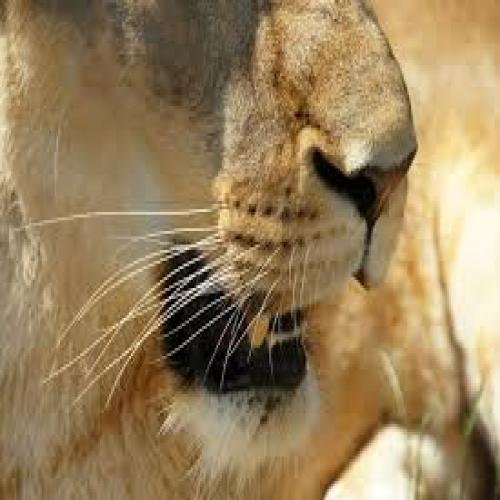lion-endangered: (0, 0, 417, 490)
